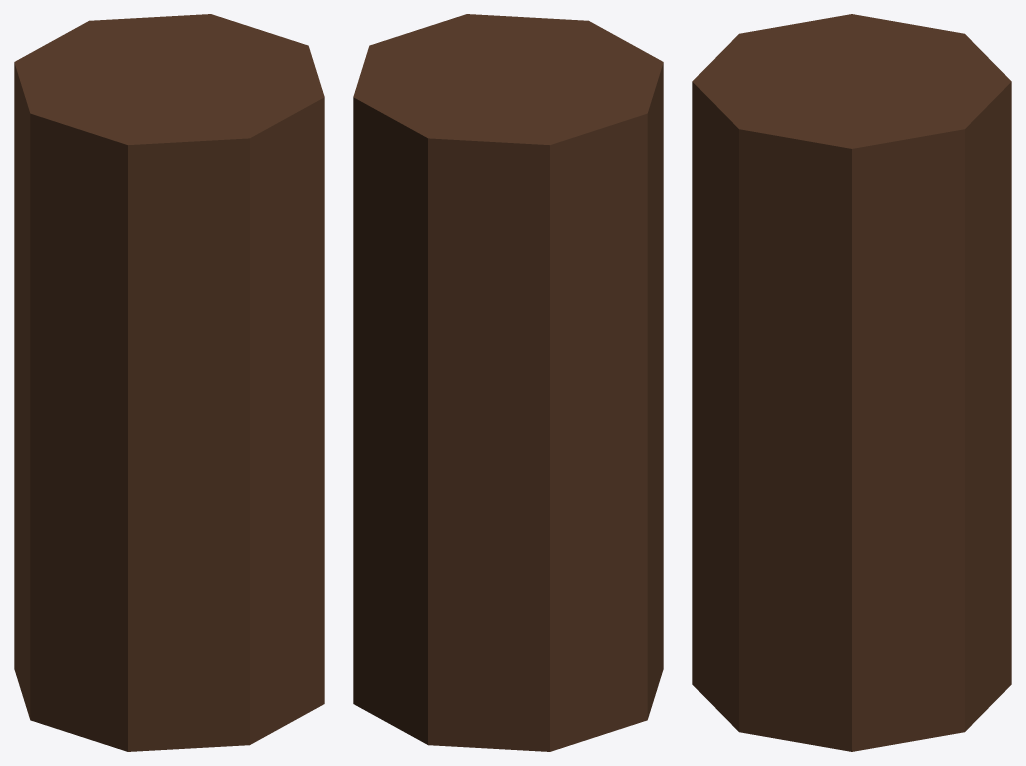
The model's file is SignPole.fbx.
The picture shows the model from 3 angles, left to right: view 1: azimuth 30°, elevation 25°; view 2: azimuth 150°, elevation 25°; view 3: azimuth 270°, elevation 25°; orthographic projection.
Parts seen in each view (by area): view 1: Pole; view 2: Pole; view 3: Pole.
Boxes of the visible parts, x1,y1,x2,y2 form: Pole: [14, 14, 324, 751]; Pole: [353, 14, 663, 751]; Pole: [692, 14, 1011, 751].
Size of the model in its own units: 24 by 50 by 24.
